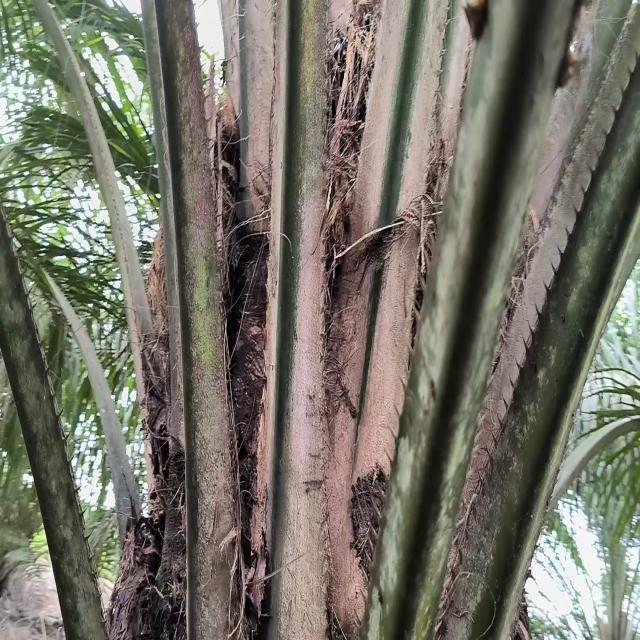palm-oil: (322, 21, 376, 262)
